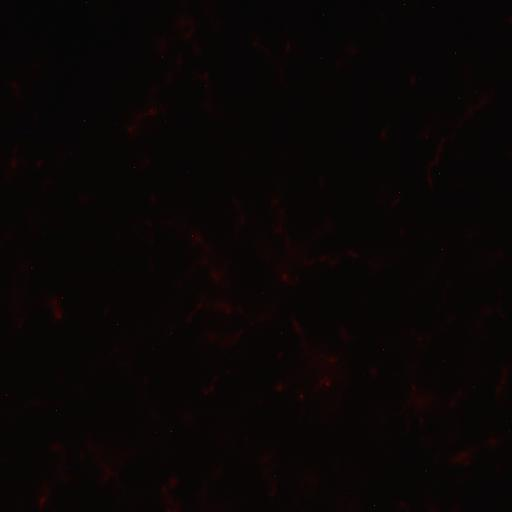microglia: (397, 204, 511, 310), (398, 308, 469, 434), (270, 190, 357, 289), (287, 314, 352, 420), (427, 90, 497, 188), (167, 214, 238, 290), (83, 432, 135, 489), (2, 137, 48, 187), (122, 88, 166, 140), (318, 31, 362, 82), (252, 22, 286, 86), (444, 436, 502, 470), (184, 292, 236, 324), (198, 460, 227, 512), (7, 268, 29, 334), (372, 180, 408, 220), (255, 444, 282, 496), (175, 12, 204, 56), (193, 66, 217, 118), (425, 134, 448, 188), (200, 325, 245, 352), (48, 440, 72, 488), (158, 474, 187, 512), (293, 463, 323, 497), (162, 51, 187, 84), (32, 478, 54, 512), (493, 361, 512, 400), (150, 33, 176, 57), (45, 294, 66, 322), (290, 316, 306, 342), (201, 376, 219, 396), (8, 79, 22, 102), (364, 364, 380, 383), (280, 270, 298, 286), (380, 124, 390, 143), (274, 382, 284, 392), (410, 75, 416, 85)
